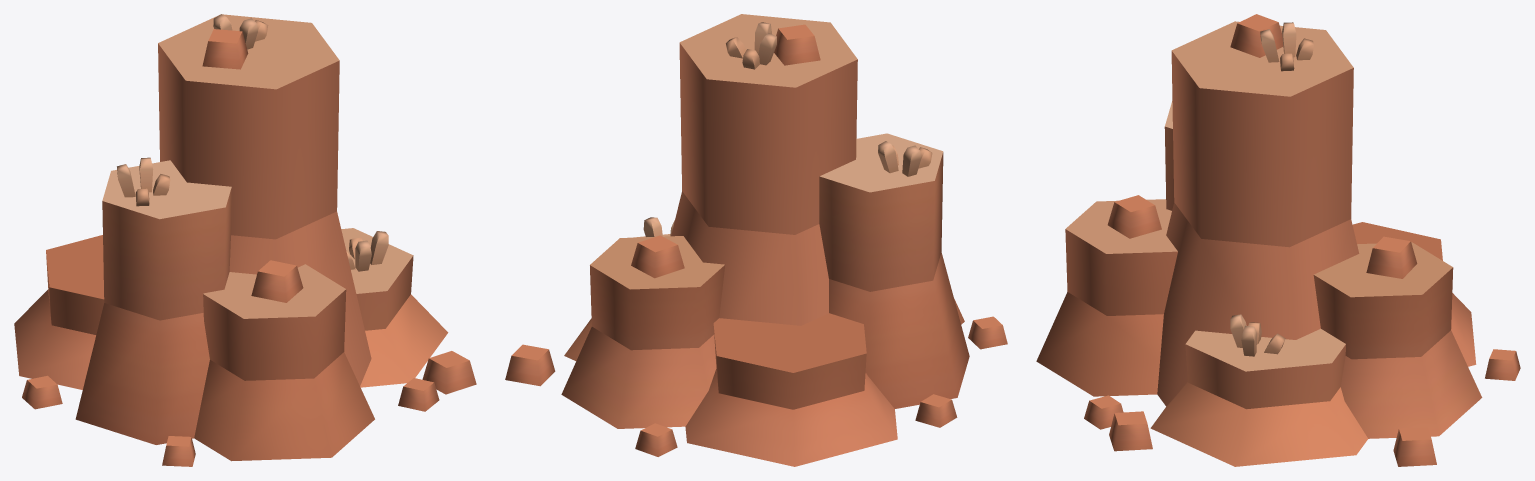
File: rocks-sand-b.glb
3 renders of one model, left to right at view 1: azimuth 30°, elevation 25°; view 2: azimuth 150°, elevation 25°; view 3: azimuth 270°, elevation 25°, orthographic. The views are drawn at different scales.
Parts seen in each view (by area): view 1: rocks-sand-b; view 2: rocks-sand-b; view 3: rocks-sand-b.
Boxes of the visible parts, x1,y1,x2,y2 form: rocks-sand-b: (14, 14, 476, 466); rocks-sand-b: (505, 14, 1007, 466); rocks-sand-b: (1036, 14, 1520, 466).
Bounding box in the file's own units: 4.38 × 3.71 × 4.71.
1 material, 1 textured.
